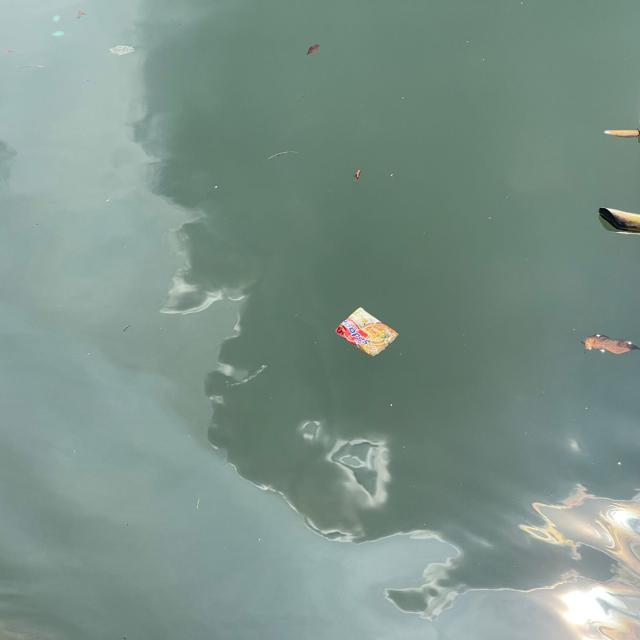Bungkus Makanan: (328, 296, 405, 369)
